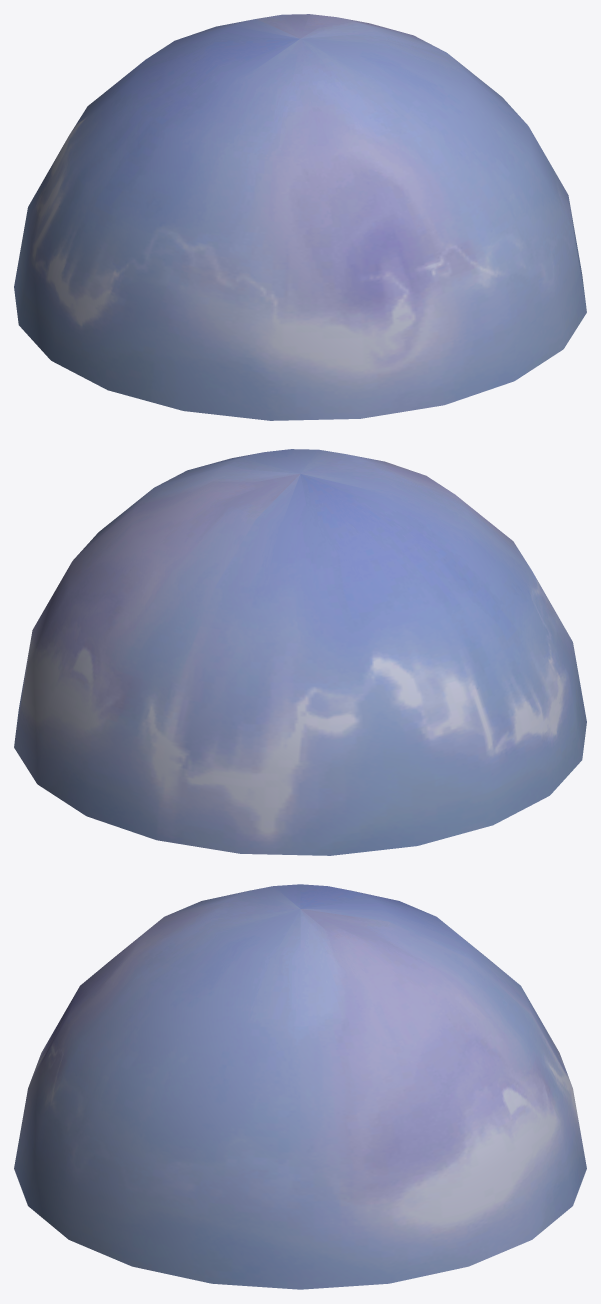
The model's file is banyuan.FBX.
The picture shows the model from 3 angles, top to bottom: view 1: azimuth 30°, elevation 25°; view 2: azimuth 150°, elevation 25°; view 3: azimuth 270°, elevation 25°; orthographic projection.
Parts seen in each view (by area): view 1: Sphere001; view 2: Sphere001; view 3: Sphere001.
Boxes of the visible parts, box(x1,y1,x2,y2) form: Sphere001: box(14, 14, 586, 420); Sphere001: box(14, 449, 586, 855); Sphere001: box(14, 884, 586, 1289).
Size of the model in its own units: 13.94 by 13.94 by 6.97.
